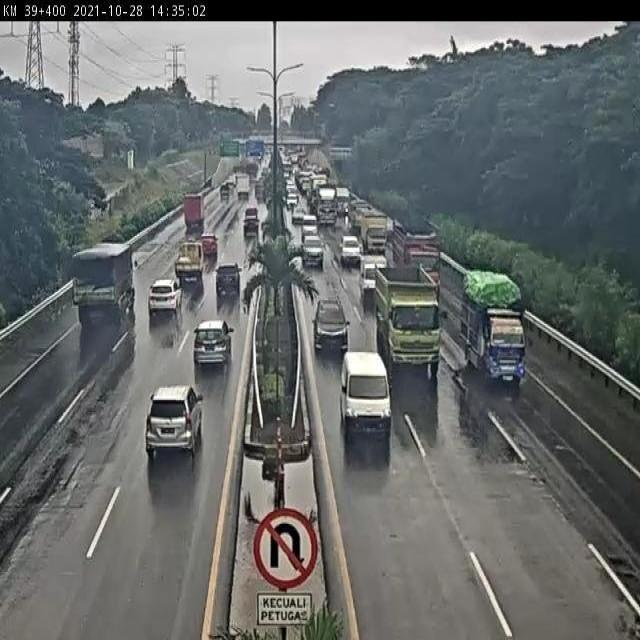Car: (144, 382, 206, 459), (312, 295, 351, 356), (192, 318, 233, 371), (174, 240, 204, 285), (148, 279, 182, 316), (215, 260, 241, 296), (360, 260, 378, 304), (301, 234, 324, 268), (340, 235, 361, 269), (243, 208, 261, 236), (200, 232, 218, 258), (292, 205, 305, 225), (286, 192, 298, 211)
Truck: (462, 269, 527, 385), (379, 268, 445, 373), (72, 243, 134, 318), (184, 191, 207, 229)
Van: (341, 352, 393, 455)
